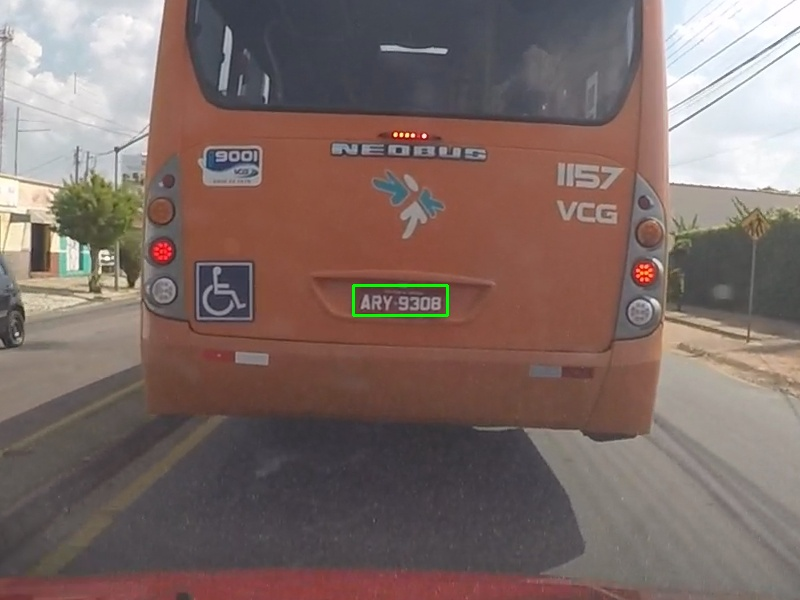placa: (353, 285, 447, 315)
